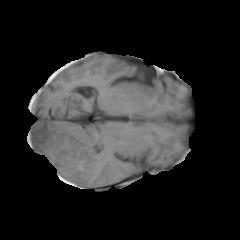glioma: (29, 122, 108, 185)
